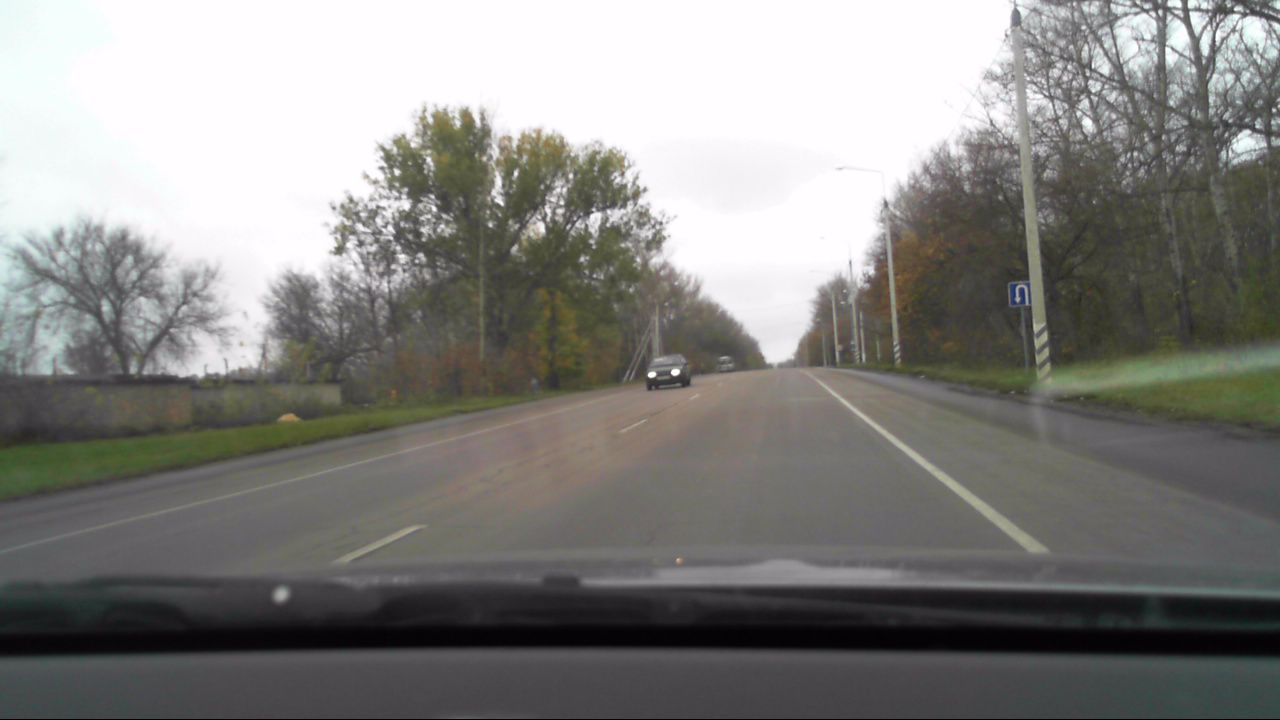U-turn: (1008, 282, 1031, 305)
